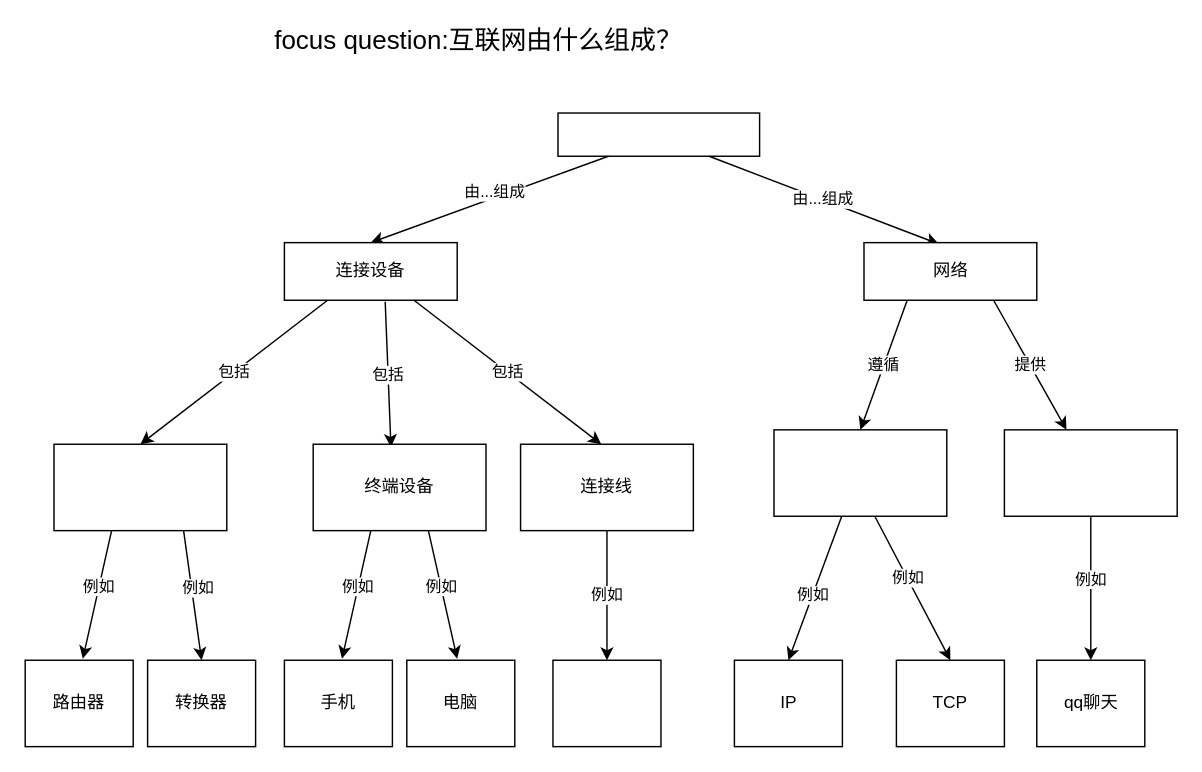
The diagram is 1202 pixels wide and 772 high, and some of its shapes have lost their labels. The box of each missing label's shape, as (x1, y1, x2, y2) in pixels:
中间设备: (53, 443, 227, 531)
互联网: (557, 112, 760, 156)
光纤: (552, 659, 661, 747)
协议: (773, 428, 947, 516)
服务: (1003, 428, 1177, 516)
